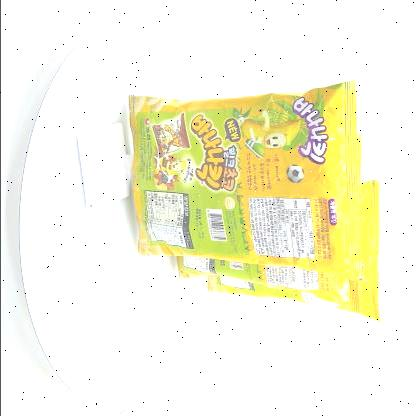Others: (120, 68, 388, 336)
